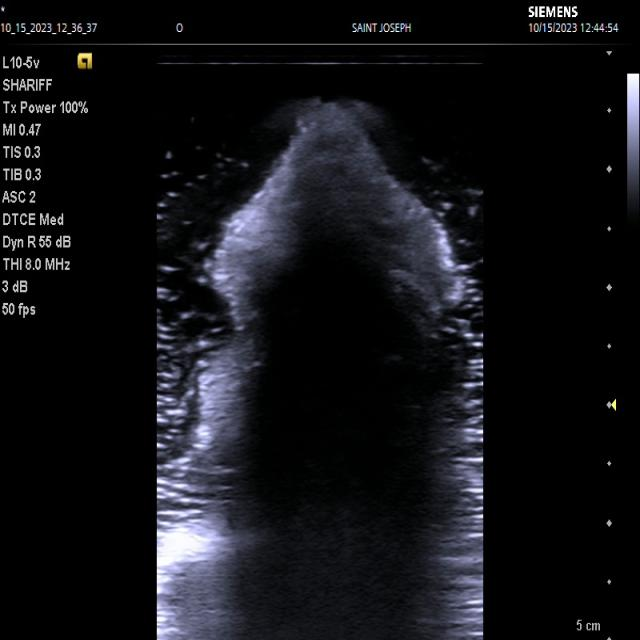tissue: (154, 100, 482, 640)
